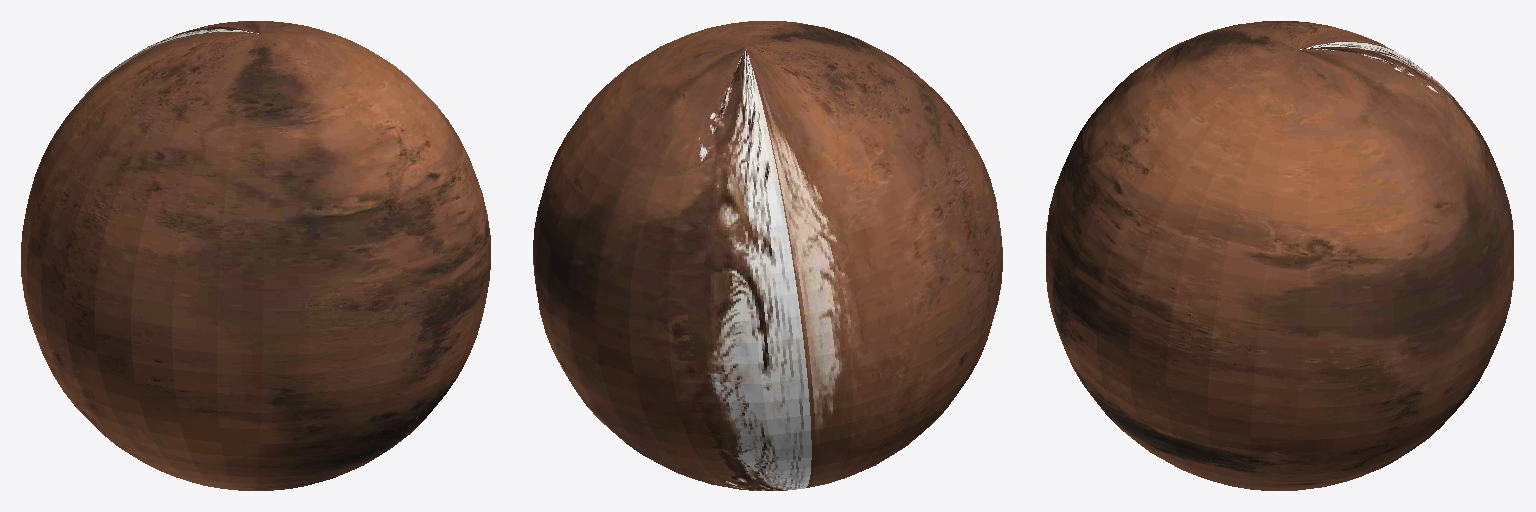
The picture shows the model from 3 angles: view 1: azimuth 30°, elevation 25°; view 2: azimuth 150°, elevation 25°; view 3: azimuth 270°, elevation 25°; orthographic projection.
Visible parts, largest first — view 1: Plane; view 2: Plane; view 3: Plane.
Part boxes in pixels (x1,y1,x2,y2): Plane: (21,21,490,490); Plane: (533,21,1002,490); Plane: (1046,21,1513,490).
Size of the model in its own units: 24.88 by 25.02 by 24.91.
Materials: 1 (1 with a texture image).